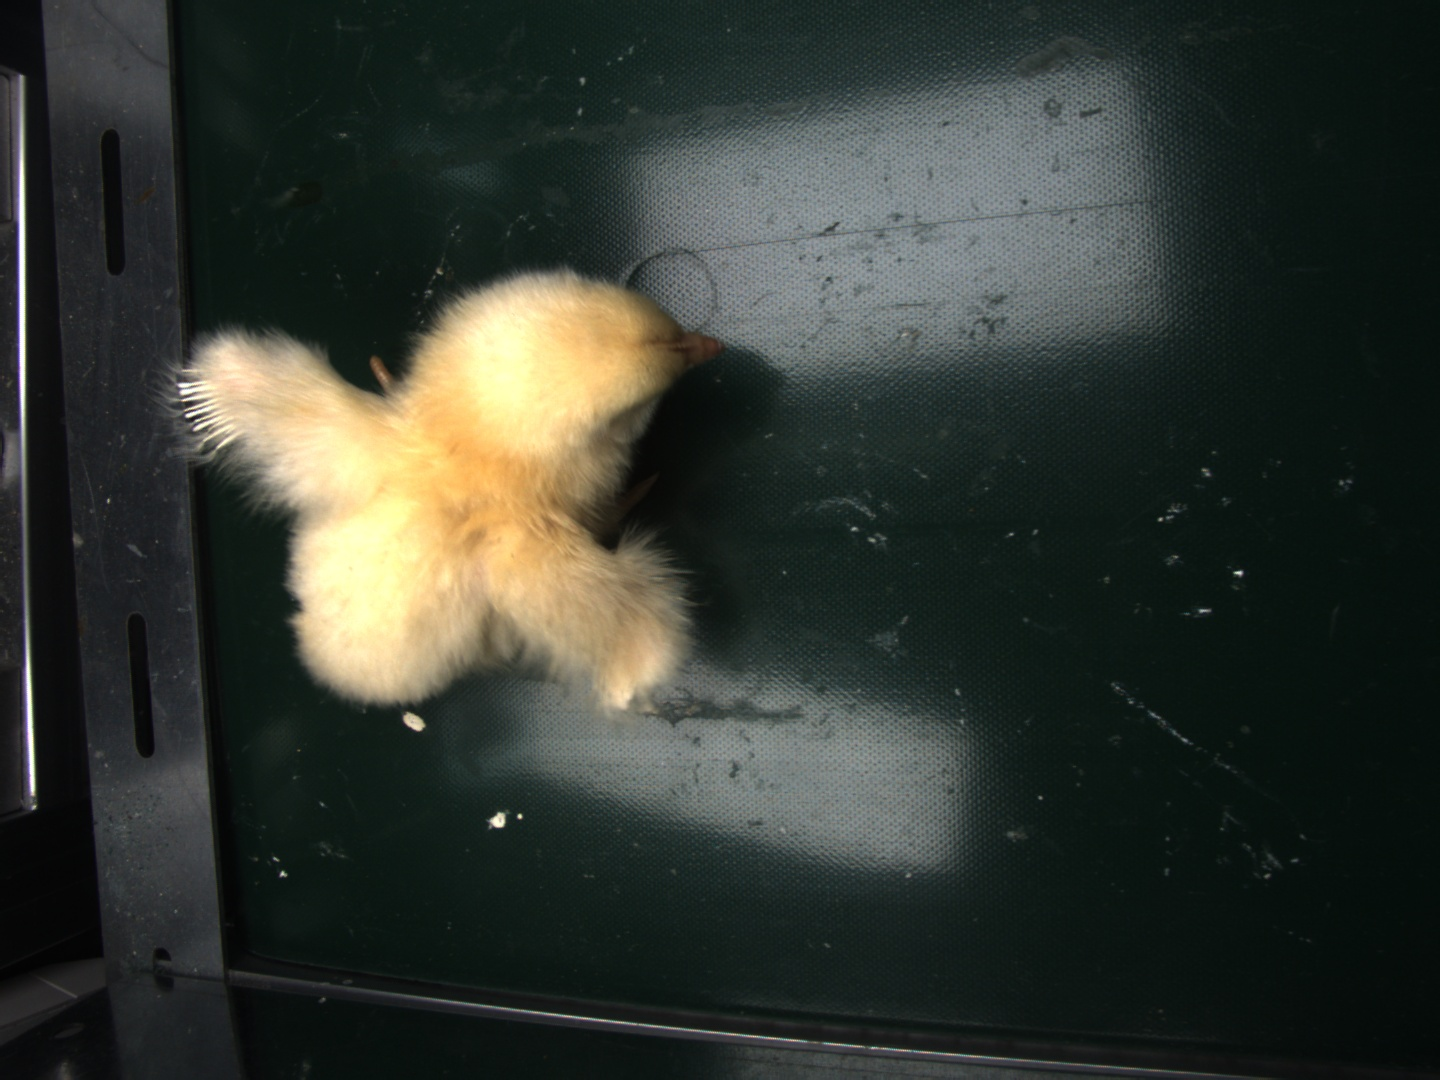male: (179, 372, 240, 453)
